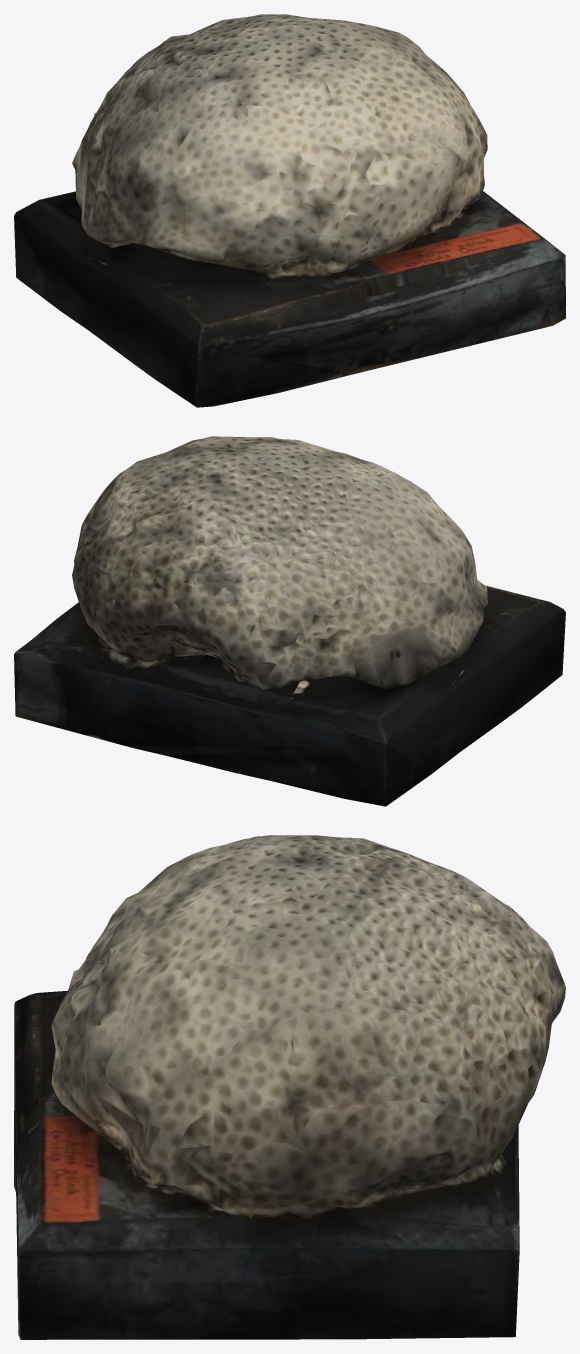
Rendered from boulder.glb.
The picture shows the model from 3 angles, top to bottom: view 1: azimuth 30°, elevation 25°; view 2: azimuth 150°, elevation 25°; view 3: azimuth 270°, elevation 25°; orthographic projection. The views are drawn at different scales.
Size of the model in its own units: 0.178 by 0.1151 by 0.1649.
Materials: 1 (1 with a texture image).
